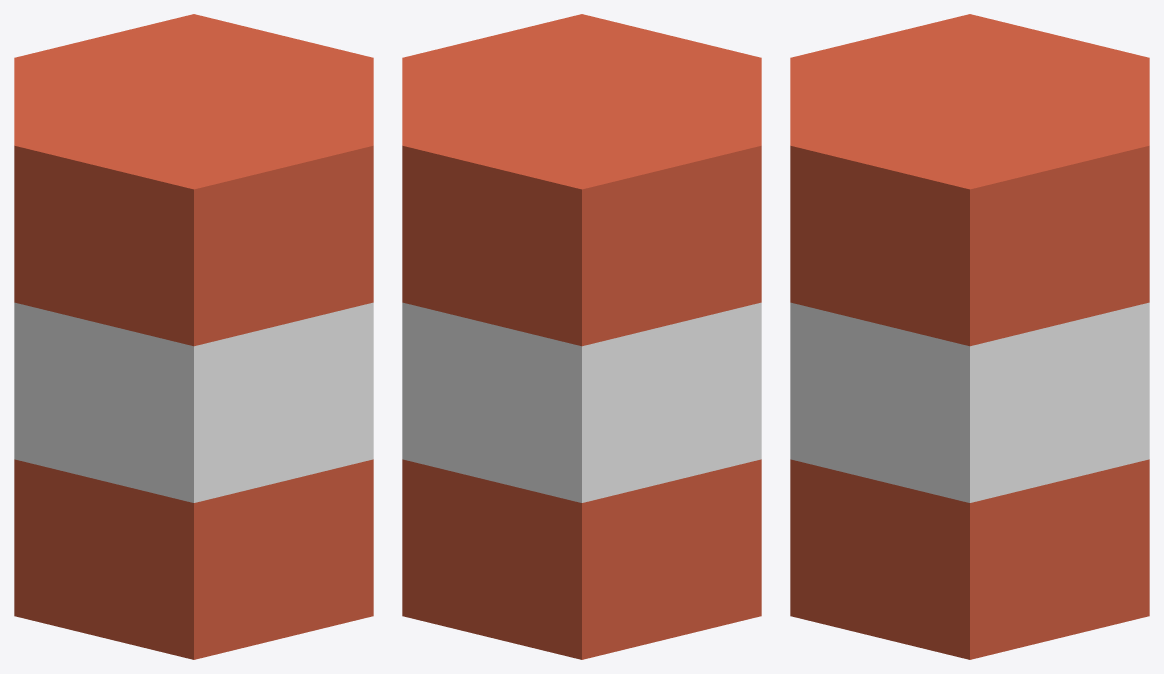
Rendered from barrel.glb.
The picture shows the model from 3 angles, left to right: view 1: azimuth 30°, elevation 25°; view 2: azimuth 150°, elevation 25°; view 3: azimuth 270°, elevation 25°; orthographic projection.
Visible parts, largest first — view 1: barrel; view 2: barrel; view 3: barrel.
Boxes of the visible parts, <box> form: barrel: <box>14,14,373,659</box>; barrel: <box>402,14,761,659</box>; barrel: <box>790,14,1149,659</box>.
Bounding box in the file's own units: 1.2 × 1.5 × 1.04.
